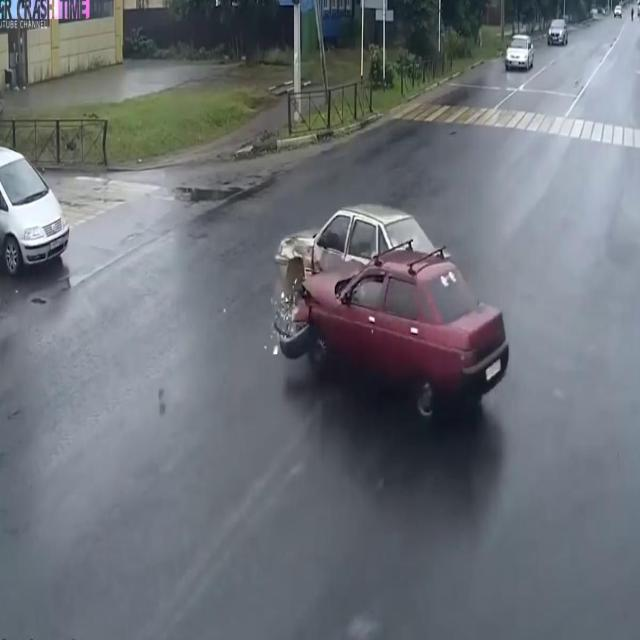accident: (263, 190, 517, 439)
